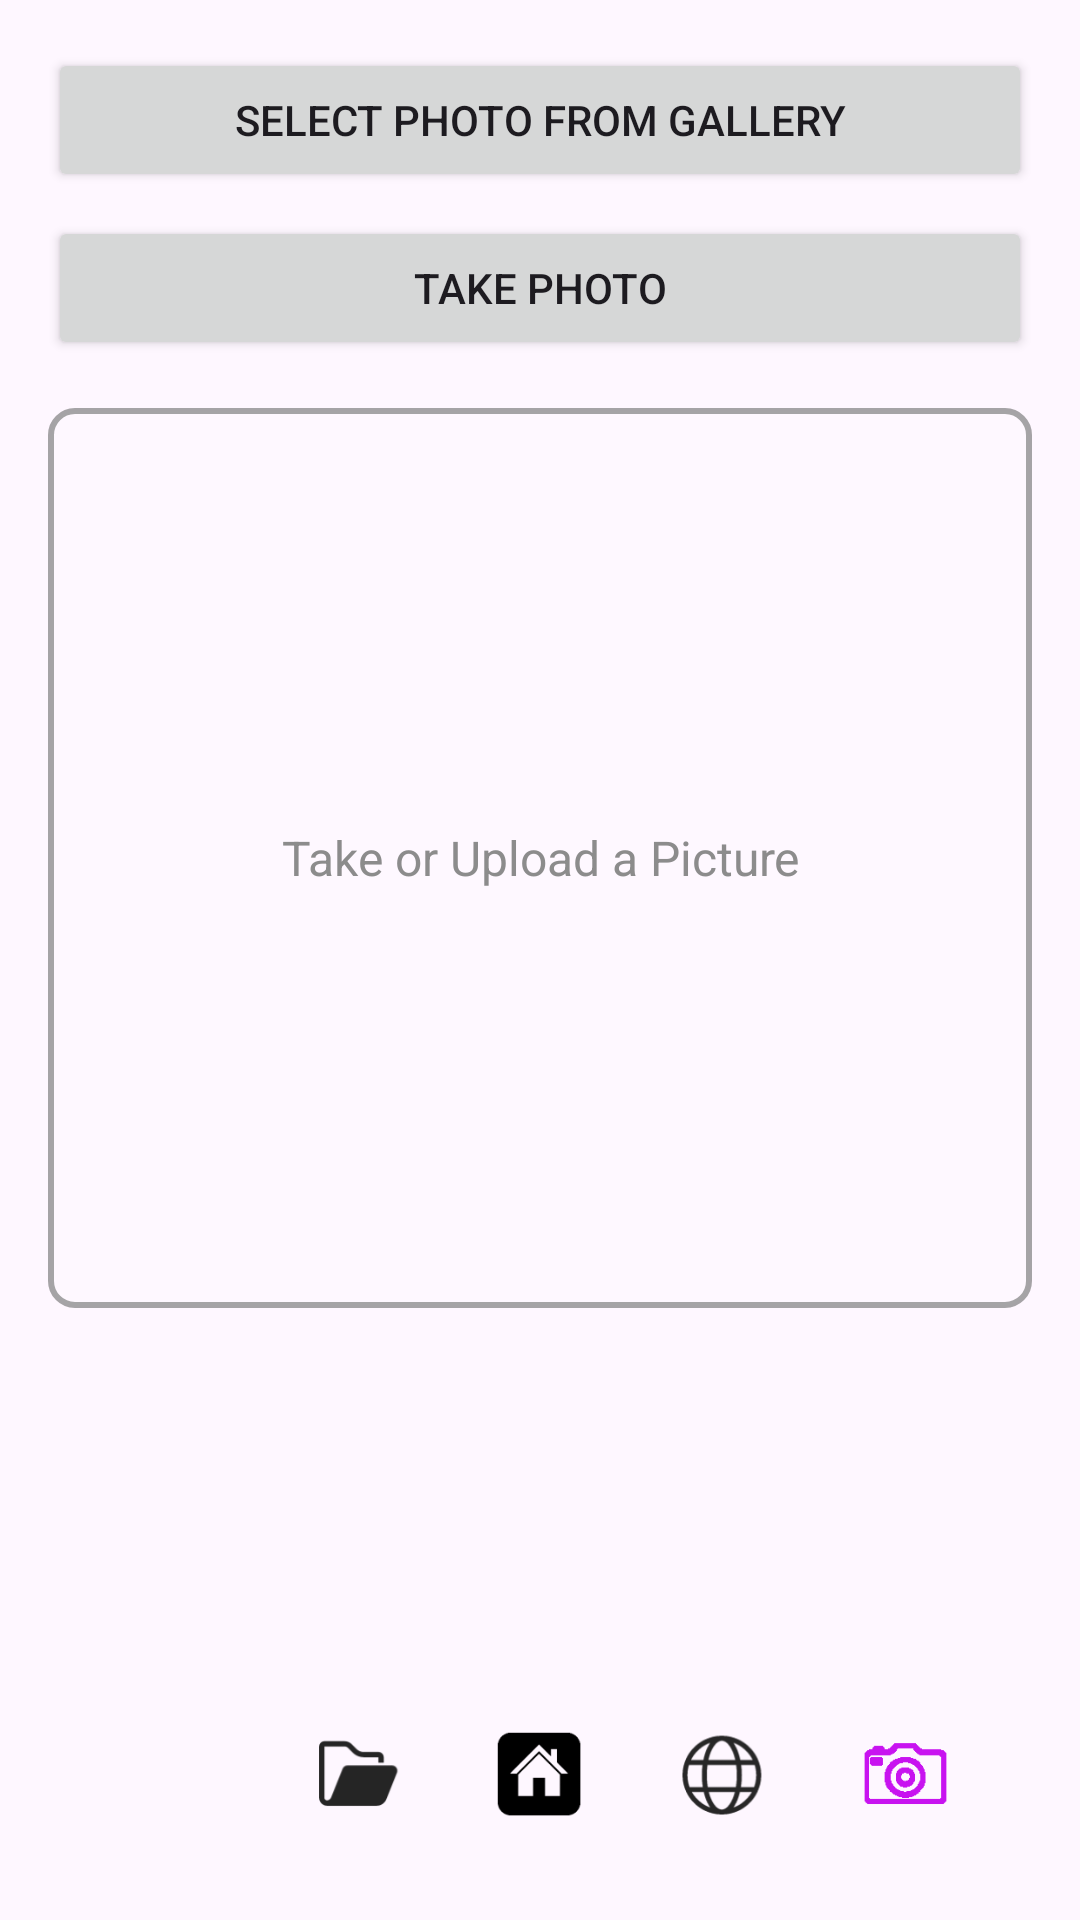

Named icons in this screenshot (1080x1920) and their centers, [x,y]:
camera current: [905,1773]
home: [539,1774]
open: [358,1773]
